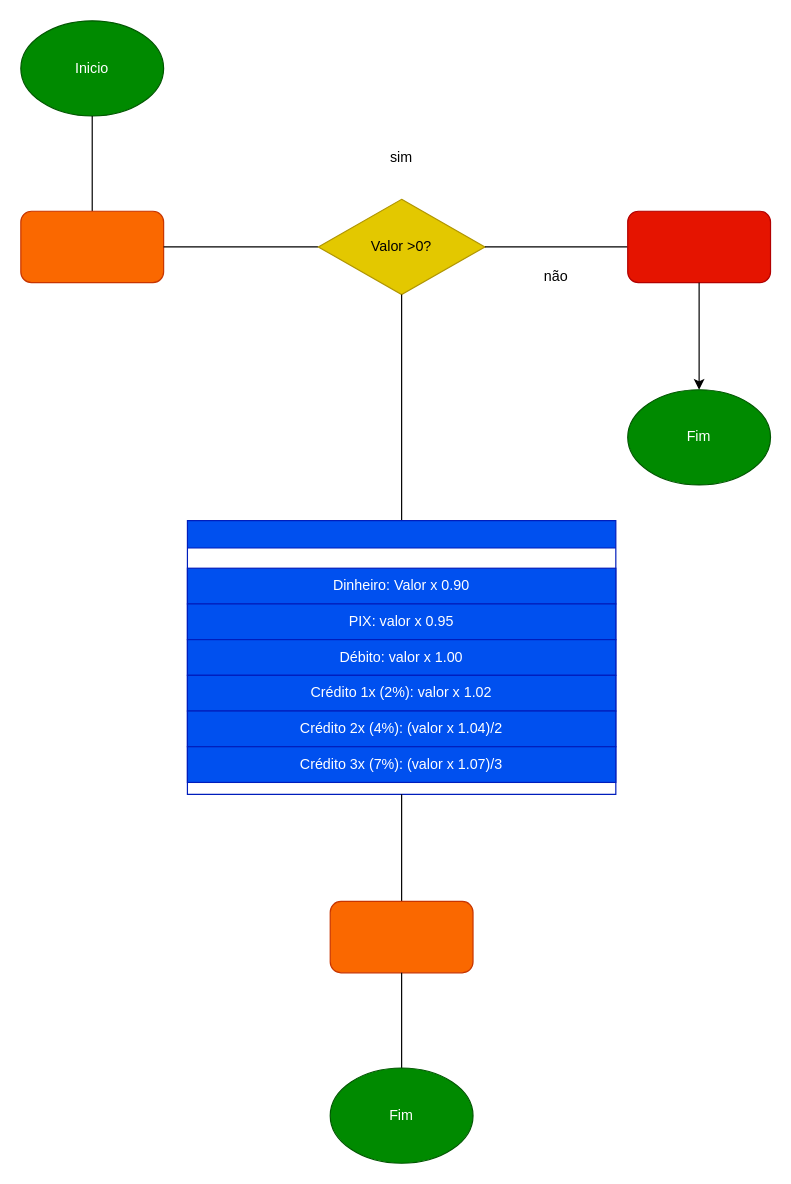
Some shapes in this 791 by 1184 pixel diagram are drawn without their labels. The shapes that lost their labels are listed below. From the top down, each one's box as (x1, y1, x2, y2) in pixels, then its label:
(20, 210, 164, 283): Digitar Valor
(627, 210, 771, 283): Exibir Erro
(186, 519, 616, 794): Processar 6 cálculos
(329, 900, 473, 973): Exibir 6 cards
